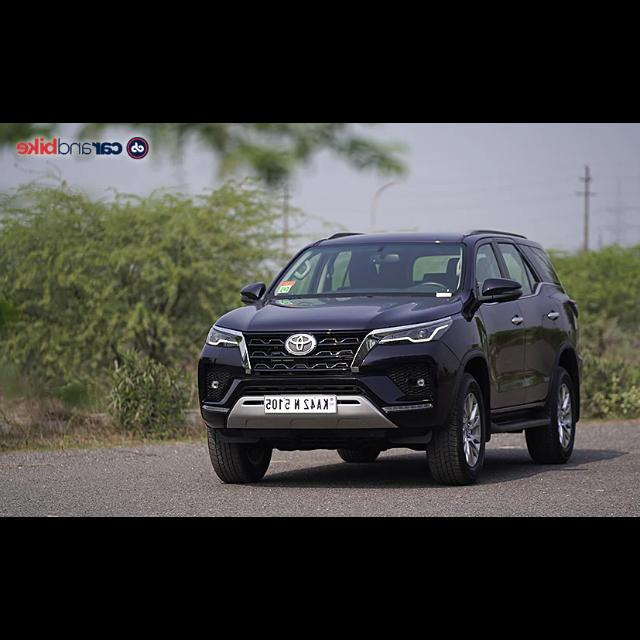vehicles: (192, 227, 586, 486)
